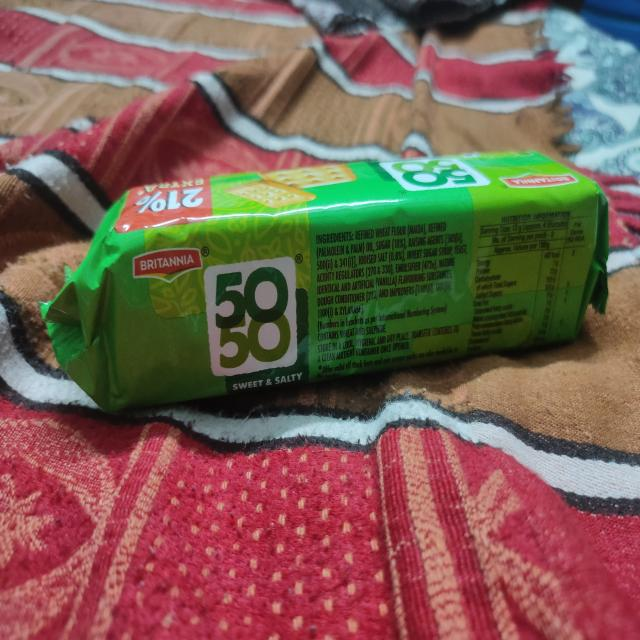biscuit: (53, 146, 601, 417)
